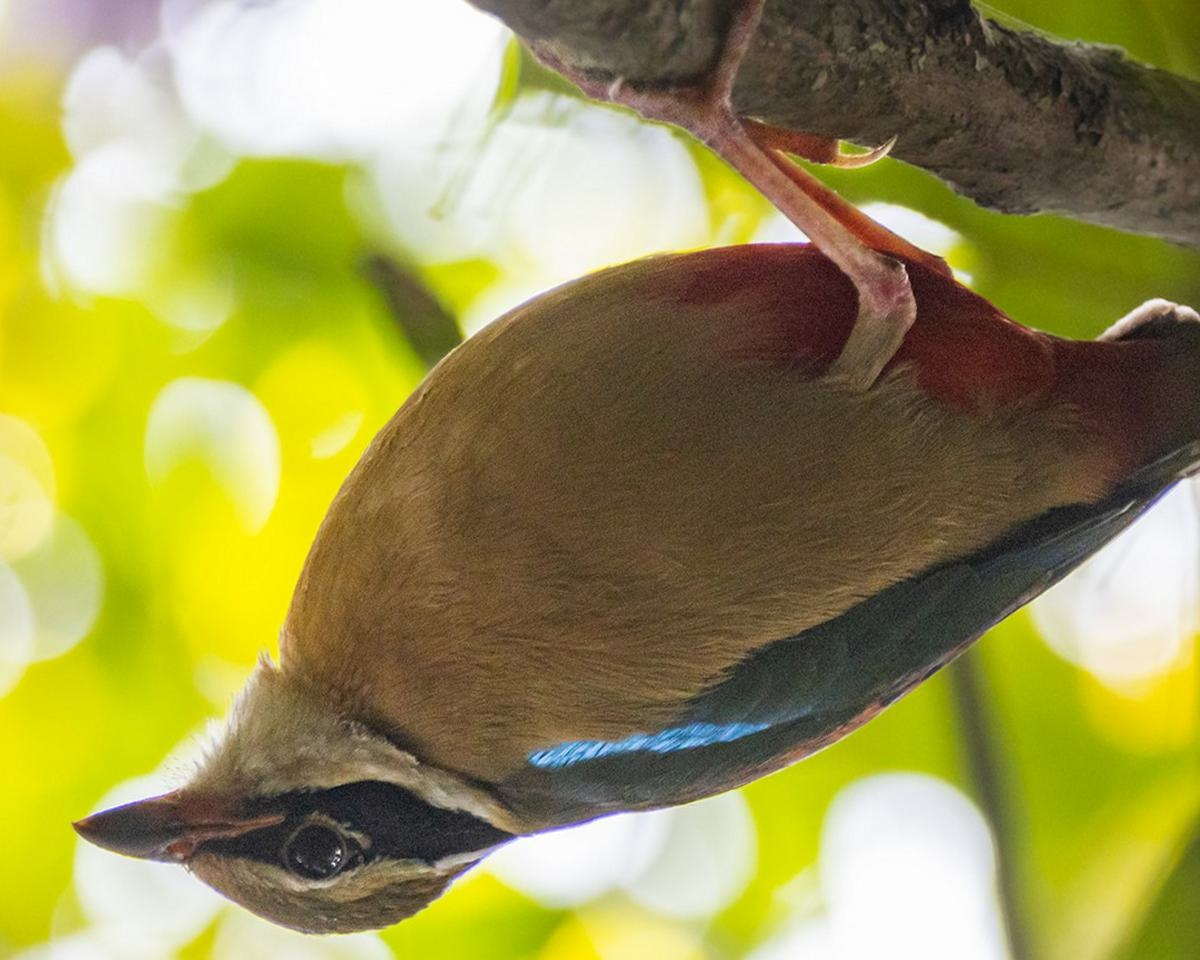pitta: (53, 107, 1106, 932)
